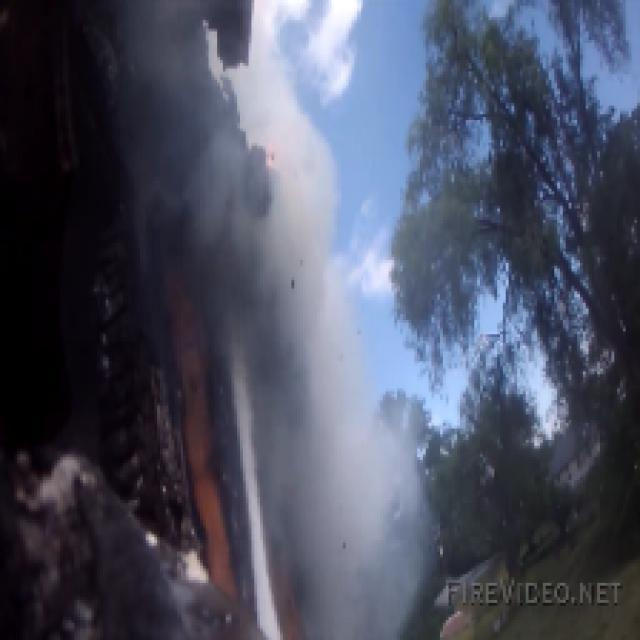Smoke: (122, 20, 468, 640)
